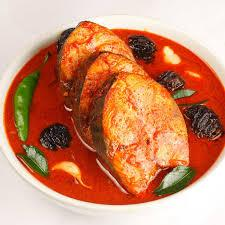Fish Curry: (54, 13, 205, 201)
